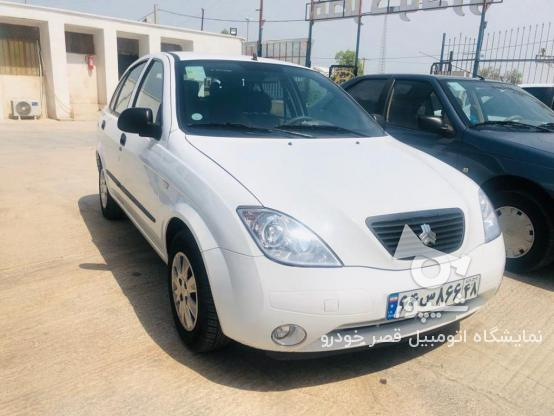car: (388, 272, 479, 319)
